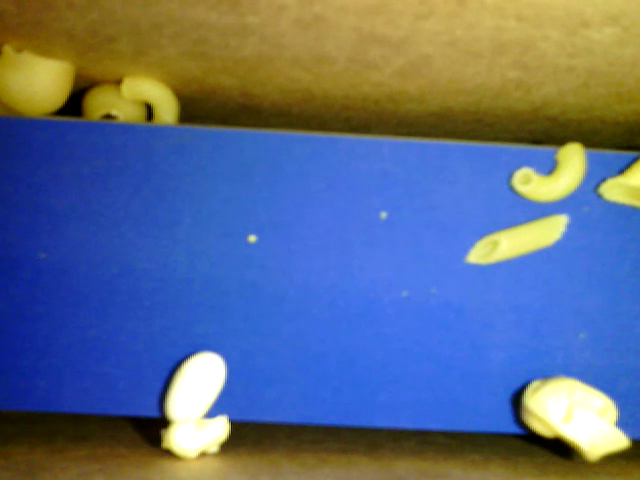elbow: (511, 141, 586, 202), (121, 72, 178, 121)
penne: (464, 212, 569, 265)
shell: (1, 41, 76, 118), (80, 82, 146, 125), (598, 160, 639, 208)
tortellini: (520, 372, 630, 461)
